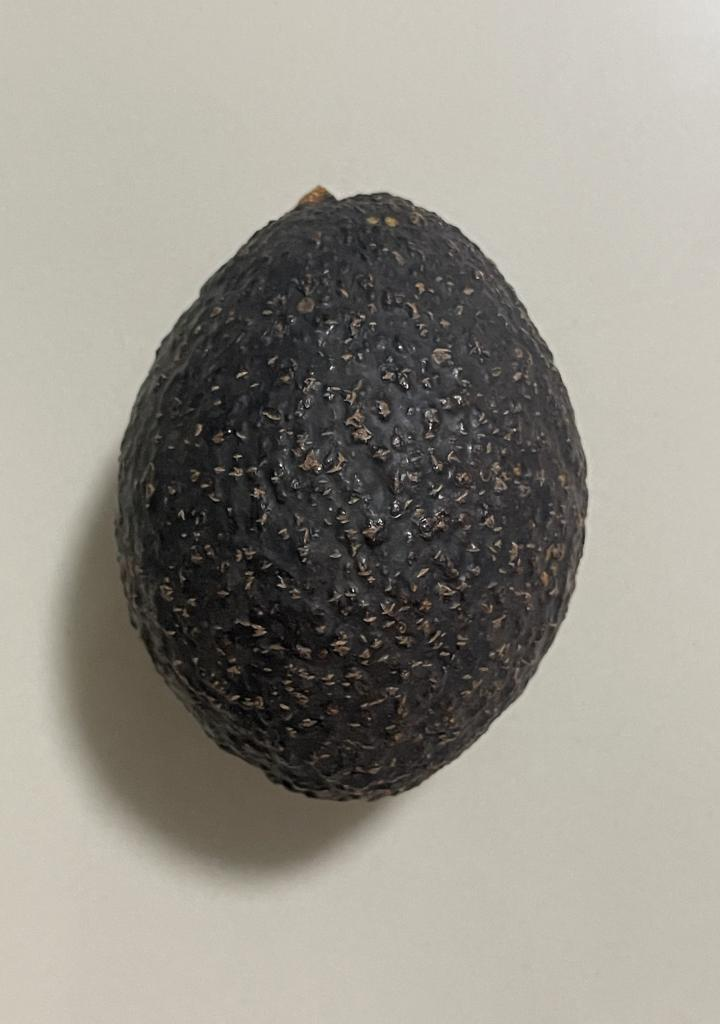Level3: (102, 175, 602, 815)
